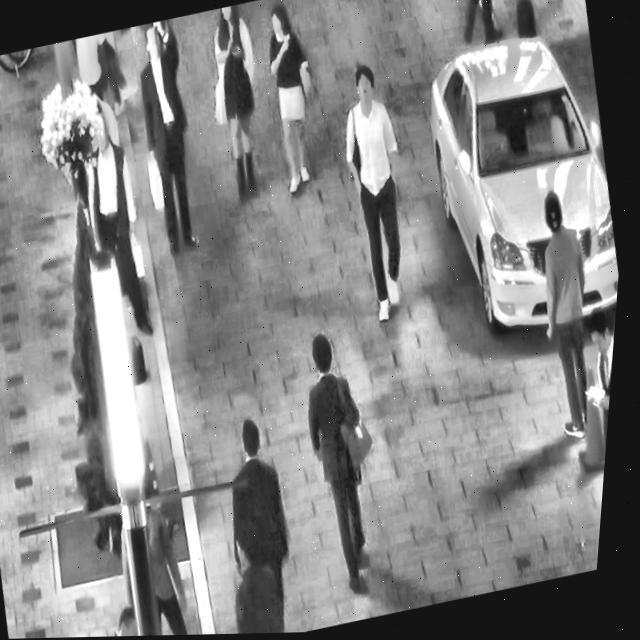light_vehicle: (397, 6, 639, 360)
